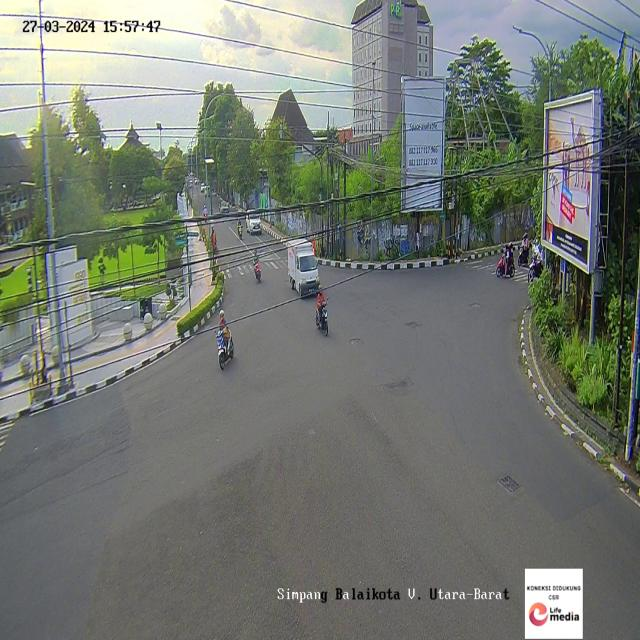car: (246, 208, 262, 236), (219, 202, 230, 218)
motorcycle: (215, 309, 234, 371), (314, 282, 328, 335), (496, 242, 515, 280), (528, 242, 544, 286), (251, 248, 262, 285), (518, 233, 530, 264), (236, 215, 243, 240), (202, 204, 208, 222)
truck: (288, 245, 320, 298)
